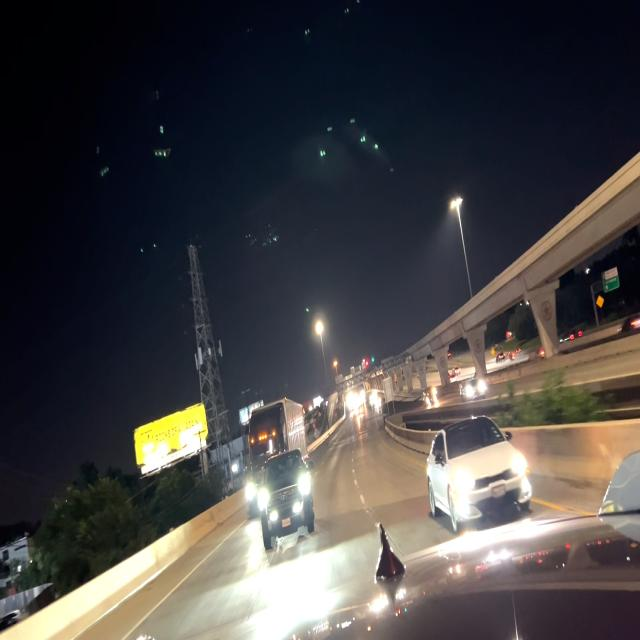back-of-sign: (334, 367, 366, 394), (380, 354, 399, 377)
